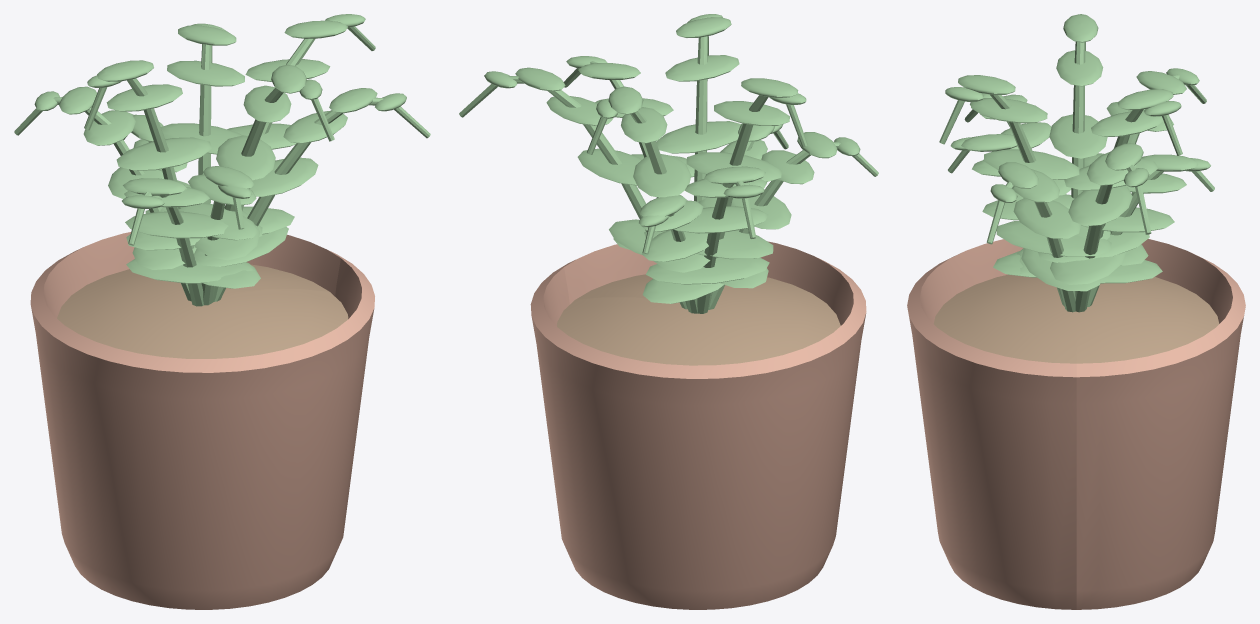
Rendered from jelly-friends-playroom-potted-fern-46bf82a5.glb.
The picture shows the model from 3 angles, left to right: view 1: azimuth 30°, elevation 25°; view 2: azimuth 150°, elevation 25°; view 3: azimuth 270°, elevation 25°; orthographic projection. The views are drawn at different scales.
Visible parts, largest first — view 1: potted-fern; view 2: potted-fern; view 3: potted-fern.
Part boxes in pixels (bbox=[...]): potted-fern: bbox=[14, 14, 430, 609]; potted-fern: bbox=[459, 14, 878, 609]; potted-fern: bbox=[907, 14, 1245, 609].
Bounding box in the file's own units: 0.3165 × 0.4264 × 0.264.
